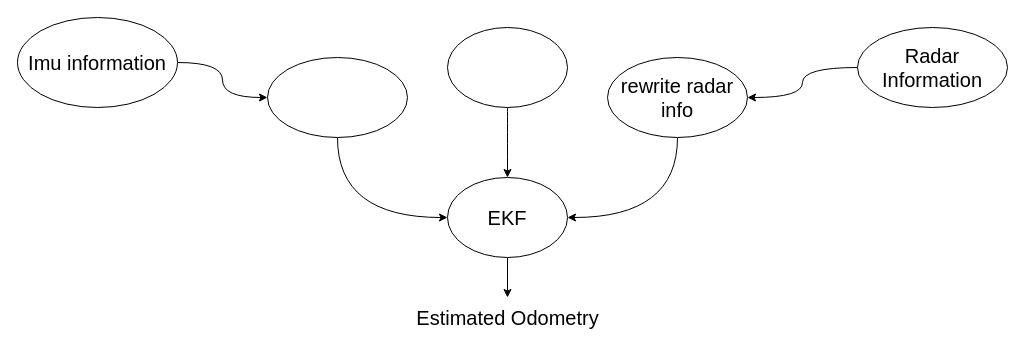
Image size: 1025x347. Some labels were removed from this diagram. The shapes that lost their labels are listed below. From the top down, each one's centre as x and y in pixels, then its label:
point (507, 67): TF
point (337, 97): rewrite imu info
